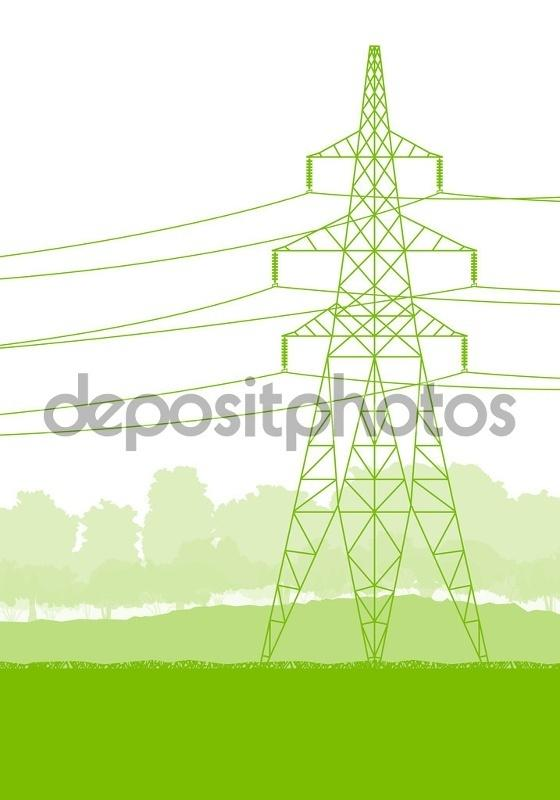power_tower: (287, 52, 493, 666)
